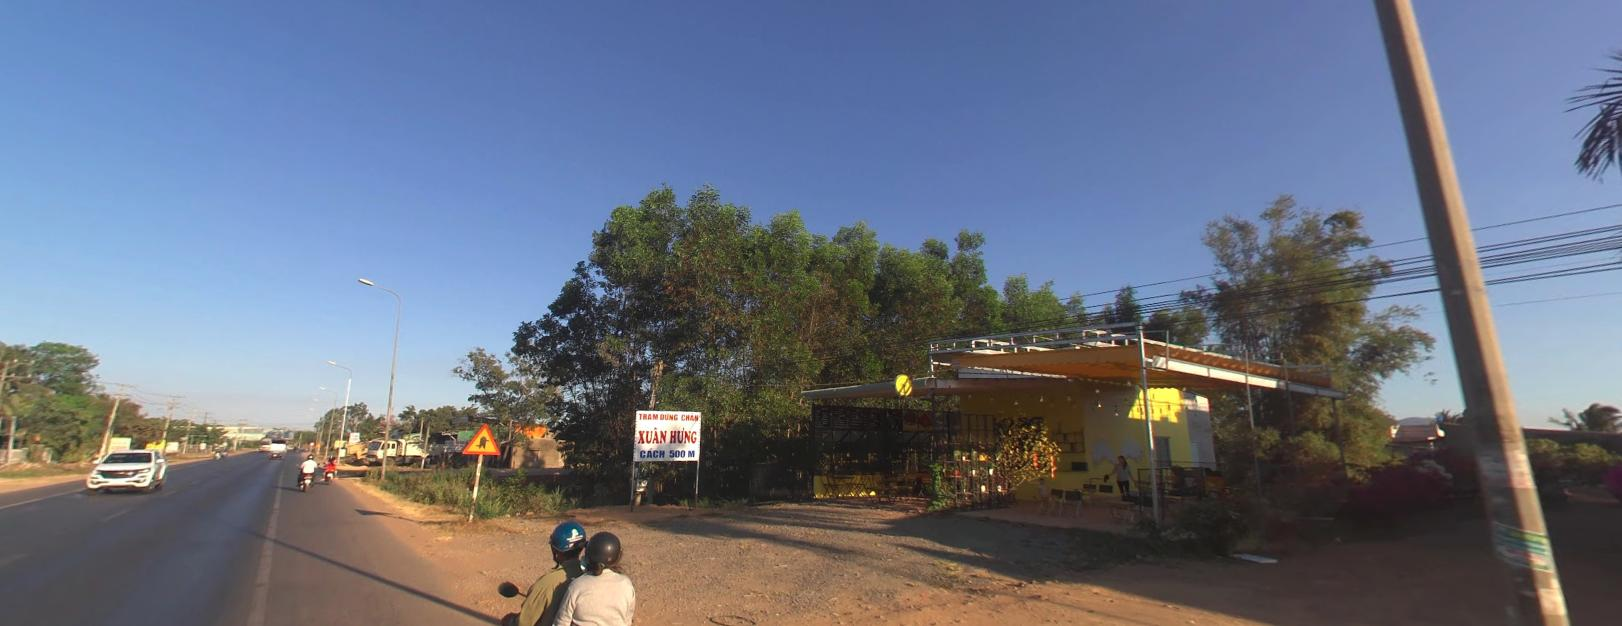Nguy hiem: (461, 421, 500, 454)
